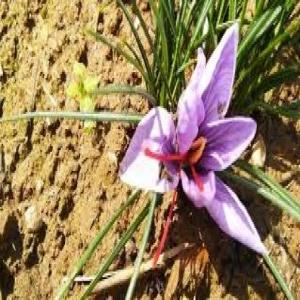Saffron: (126, 30, 267, 256)
